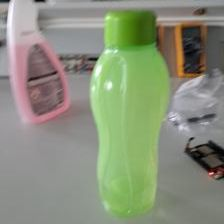bottle: (88, 7, 172, 217)
